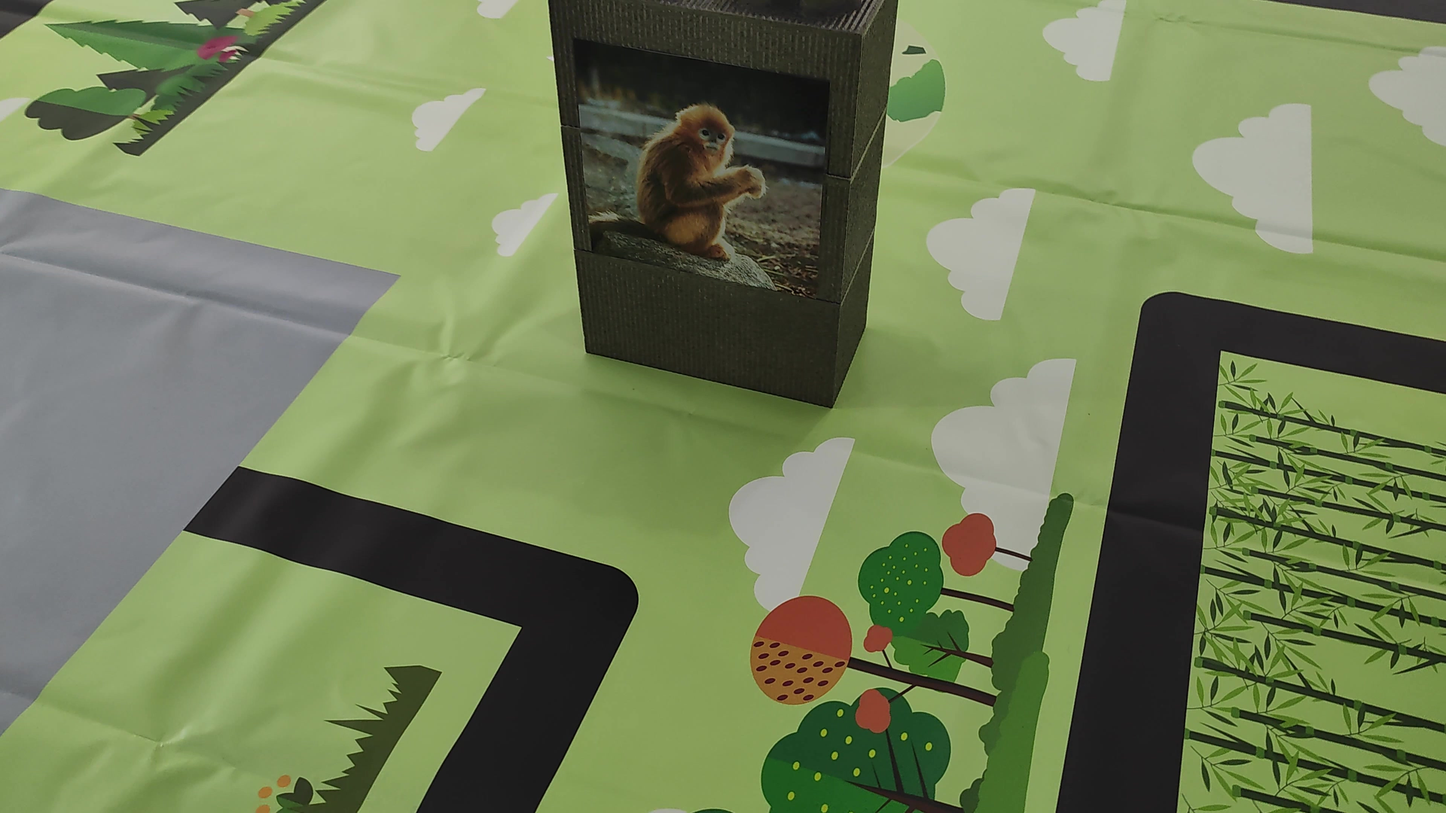monkey: (582, 75, 796, 288)
